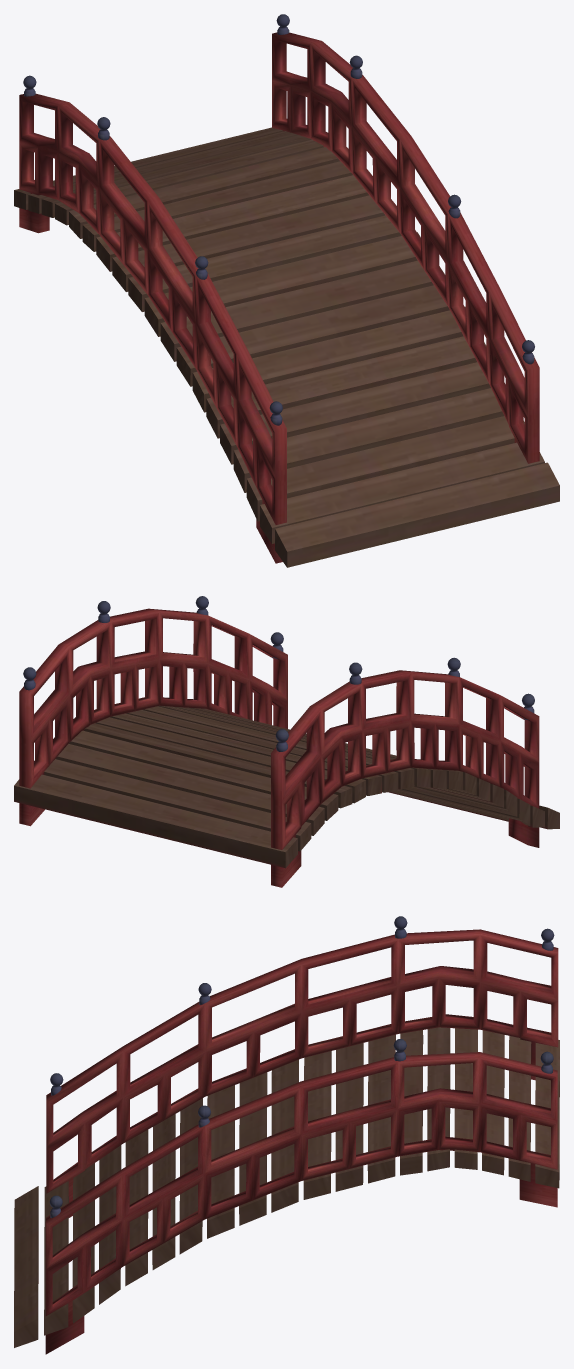
File: vipbridge01-art.glb
3 views of the same model, one above another, from view 1: azimuth 30°, elevation 25°; view 2: azimuth 150°, elevation 25°; view 3: azimuth 270°, elevation 25° (orthographic).
Visible parts, largest first — view 1: VIPBridge01_Art; view 2: VIPBridge01_Art; view 3: VIPBridge01_Art.
Boxes of the visible parts, x1=… form: VIPBridge01_Art: x1=14, y1=14, x2=559, y2=567; VIPBridge01_Art: x1=14, y1=596, x2=559, y2=887; VIPBridge01_Art: x1=14, y1=916, x2=559, y2=1354.
Bounding box in the file's own units: 6.73 × 7.39 × 11.69.
1 material, 1 textured.
